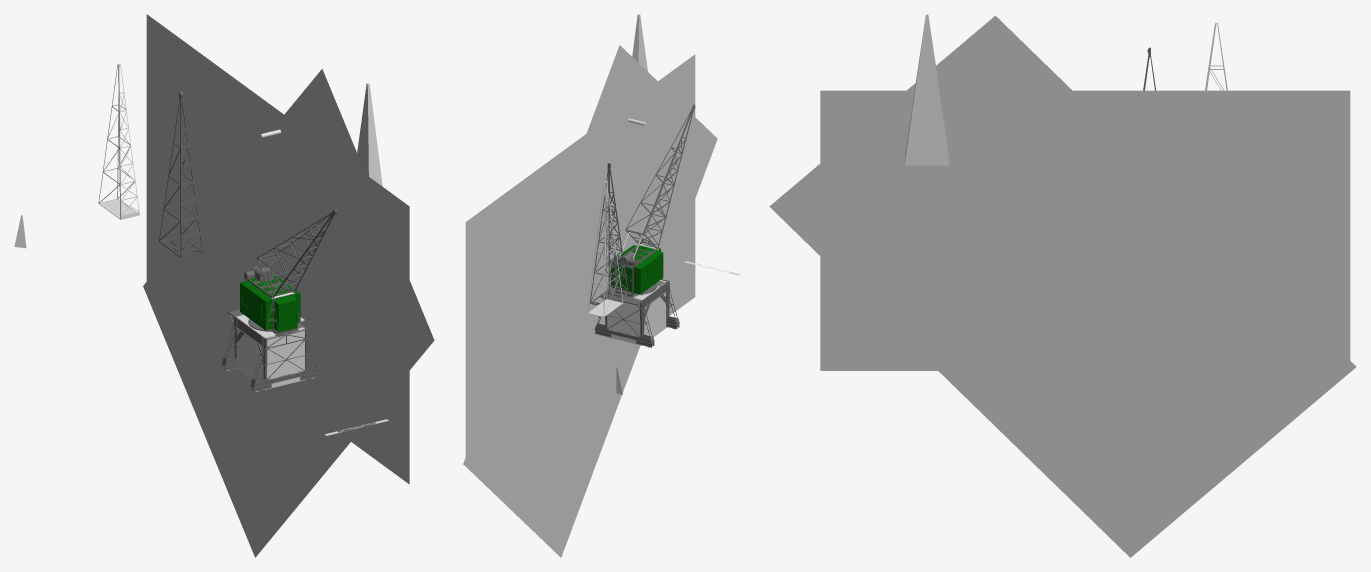
File: kran50.fbx
3 views of the same model, side by side, from view 1: azimuth 30°, elevation 25°; view 2: azimuth 150°, elevation 25°; view 3: azimuth 270°, elevation 25° (orthographic). The views are drawn at different scales.
Parts seen in each view (by area): view 1: Ritning.001, Ritning, Messuree, Base, Cabin, Cube.022, Cube.023, Bom, Cube.024, Cage; view 2: Ritning.001, Ritning, Base, Messuree, Bom, Cabin, Cube.023, Cube.022, Cage, Cube.024; view 3: Ritning, Ritning.001, Cube.024.
Boxes of the visible parts, left/top/right/bottom form: Ritning.001: left=143, top=69, right=434, bottom=557; Ritning: left=146, top=14, right=409, bottom=484; Messuree: left=236, top=315, right=304, bottom=388; Base: left=221, top=309, right=319, bottom=391; Cabin: left=240, top=274, right=300, bottom=332; Cube.022: left=159, top=91, right=203, bottom=257; Cube.023: left=98, top=63, right=139, bottom=219; Bom: left=256, top=209, right=336, bottom=297; Cube.024: left=357, top=83, right=382, bottom=186; Cage: left=244, top=266, right=300, bottom=335; Ritning.001: left=463, top=45, right=717, bottom=557; Ritning: left=465, top=54, right=695, bottom=456; Base: left=594, top=279, right=679, bottom=347; Messuree: left=607, top=280, right=666, bottom=344; Bom: left=625, top=104, right=695, bottom=248; Cabin: left=610, top=244, right=663, bottom=294; Cube.023: left=587, top=180, right=623, bottom=317; Cube.022: left=590, top=163, right=628, bottom=305; Cage: left=614, top=245, right=657, bottom=297; Cube.024: left=632, top=14, right=647, bottom=71; Ritning: left=820, top=90, right=1350, bottom=370; Ritning.001: left=769, top=16, right=1356, bottom=557; Cube.024: left=905, top=14, right=949, bottom=165.
Size of the model in its own units: 1853 by 5443 by 5275.
